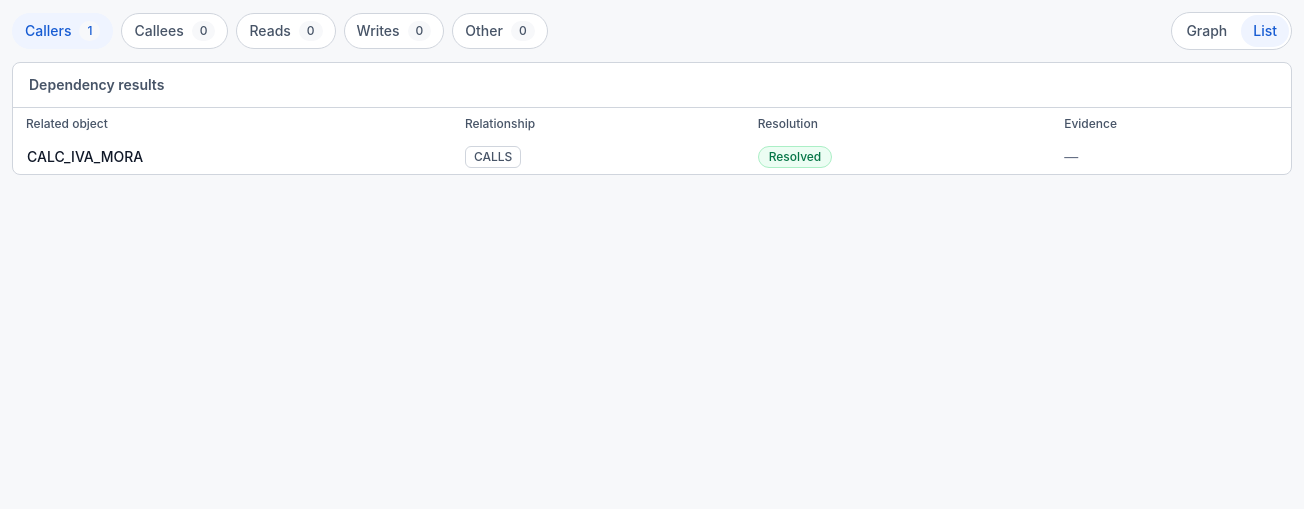
Test: DependenciesPanel graph mode › shows only the focused object when graph mode opens without expansions
Click the button "Graph": (1207, 31) [1174, 15, 1239, 47]
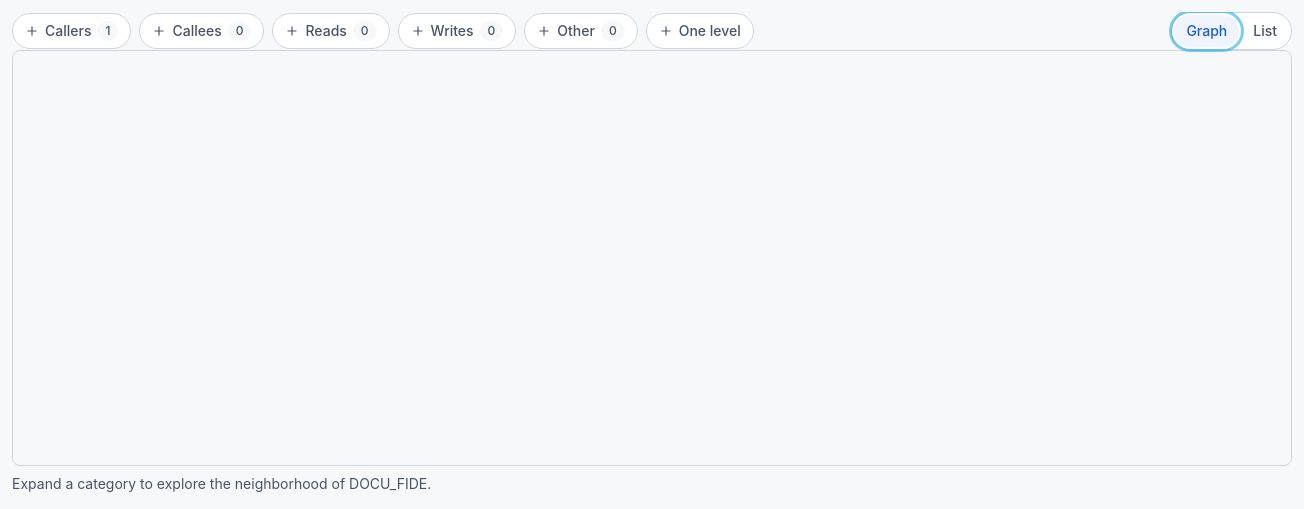
Check: the picture named "Dependency graph for" is shown
Check: the text "Expand a category to explore the neighborhood of DOCU_FIDE." is shown, box [12, 475, 431, 492]
